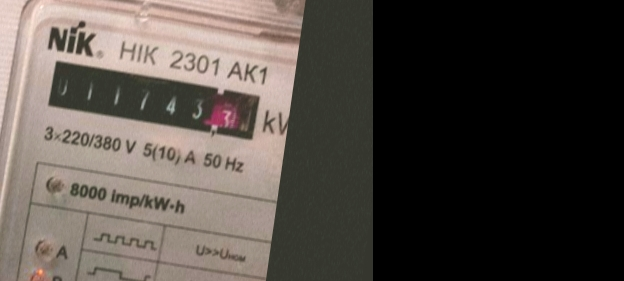0: (52, 69, 70, 98)
1: (79, 73, 97, 102), (106, 78, 123, 107)
3: (186, 93, 204, 122), (214, 107, 232, 130)
4: (161, 90, 178, 117)
7: (133, 84, 150, 111)
screen: (36, 53, 269, 148)
